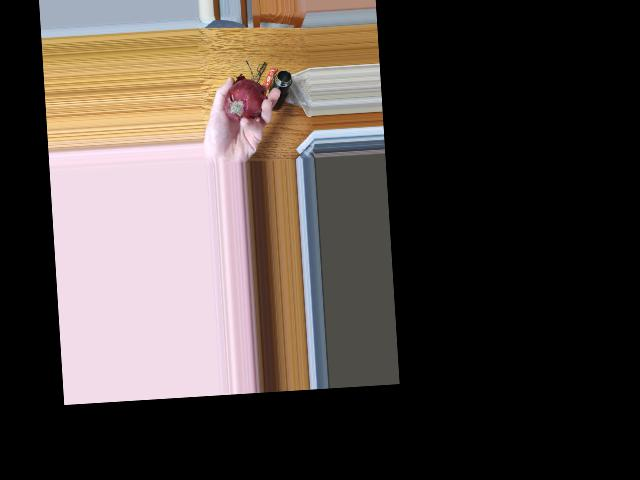onion: (222, 83, 264, 122)
